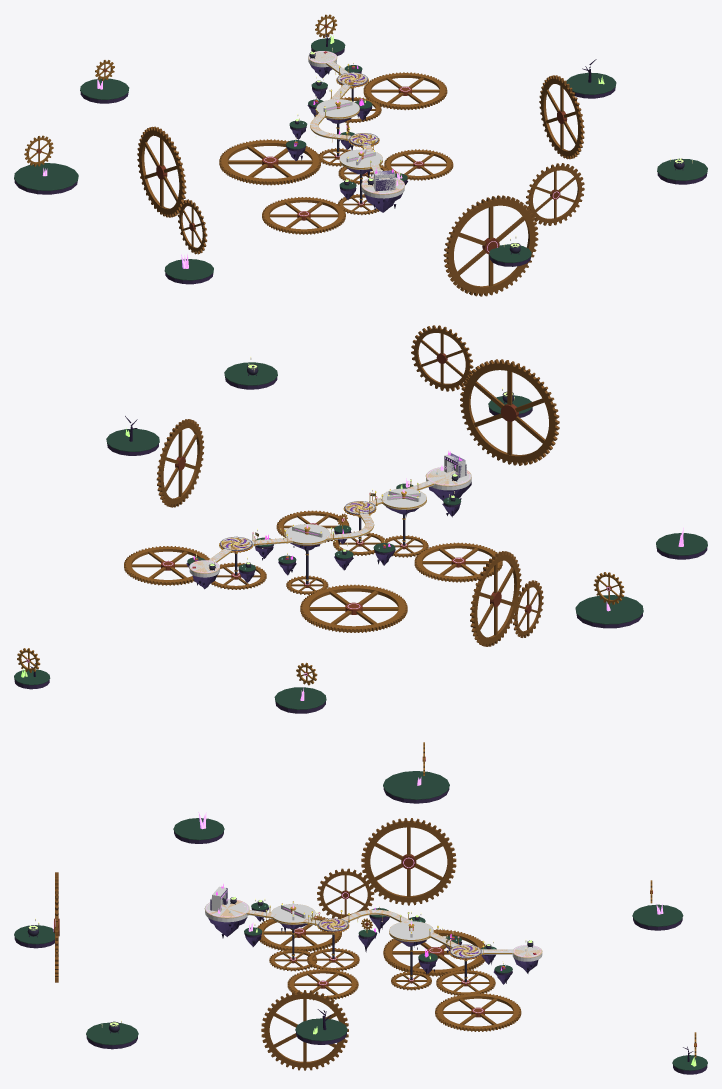
3 renders of one model, top to bottom at view 1: azimuth 30°, elevation 25°; view 2: azimuth 150°, elevation 25°; view 3: azimuth 270°, elevation 25°, orthographic. The views are drawn at different scales.
Parts seen in each view (by area): view 1: V_grass_dark, V_brass.013, C_0, V_brass.008, V_brass.015, V_brass.017, V_brass.012, V_brass.006, V_dirt, V_brass.014, V_rock, V_brass.010 (+4 smaller); view 2: V_grass_dark, V_brass.013, C_0, V_brass.008, V_brass.015, V_brass.017, V_dirt, V_brass.014, V_brass.012, V_brass.006, V_rock, V_walk (+5 smaller); view 3: V_grass_dark, V_brass.015, C_0, V_brass.017, V_dirt, V_brass.006, V_brass.008, V_rock, V_brass.012, V_brass.016, V_brass.010, V_brass.005 (+5 smaller).
Boxes of the visible parts, left/top/right/bottom form: V_grass_dark: left=14, top=38, right=707, bottom=280; V_brass.013: left=443, top=195, right=538, bottom=296; C_0: left=308, top=51, right=404, bottom=198; V_brass.008: left=219, top=139, right=320, bottom=185; V_brass.015: left=137, top=126, right=186, bottom=217; V_brass.017: left=539, top=75, right=584, bottom=159; V_brass.012: left=262, top=197, right=345, bottom=234; V_brass.006: left=363, top=72, right=447, bottom=110; V_dirt: left=14, top=48, right=707, bottom=284; V_brass.014: left=525, top=163, right=584, bottom=225; V_rock: left=287, top=63, right=407, bottom=212; V_brass.010: left=384, top=149, right=453, bottom=180; V_grass_dark: left=14, top=362, right=707, bottom=709; V_brass.013: left=460, top=359, right=559, bottom=465; C_0: left=189, top=466, right=471, bottom=577; V_brass.008: left=300, top=584, right=407, bottom=632; V_brass.015: left=470, top=551, right=521, bottom=646; V_brass.017: left=156, top=419, right=204, bottom=507; V_dirt: left=14, top=377, right=707, bottom=713; V_brass.014: left=411, top=325, right=473, bottom=391; V_brass.012: left=414, top=542, right=502, bottom=582; V_brass.006: left=124, top=546, right=209, bottom=585; V_rock: left=186, top=482, right=471, bottom=589; V_walk: left=189, top=468, right=471, bottom=573; V_grass_dark: left=14, top=771, right=707, bottom=1070; V_brass.015: left=361, top=818, right=456, bottom=905; C_0: left=205, top=899, right=542, bottom=961; V_brass.017: left=261, top=990, right=348, bottom=1070; V_dirt: left=14, top=787, right=707, bottom=1074; V_brass.006: left=435, top=993, right=521, bottom=1031; V_brass.008: left=383, top=929, right=485, bottom=976; V_rock: left=208, top=907, right=538, bottom=984; V_brass.012: left=257, top=915, right=341, bottom=952; V_brass.016: left=317, top=868, right=374, bottom=918; V_brass.010: left=287, top=968, right=358, bottom=1000; V_brass.005: left=436, top=969, right=495, bottom=995.
Bounding box in the file's own units: 176 × 41.81 × 187.
